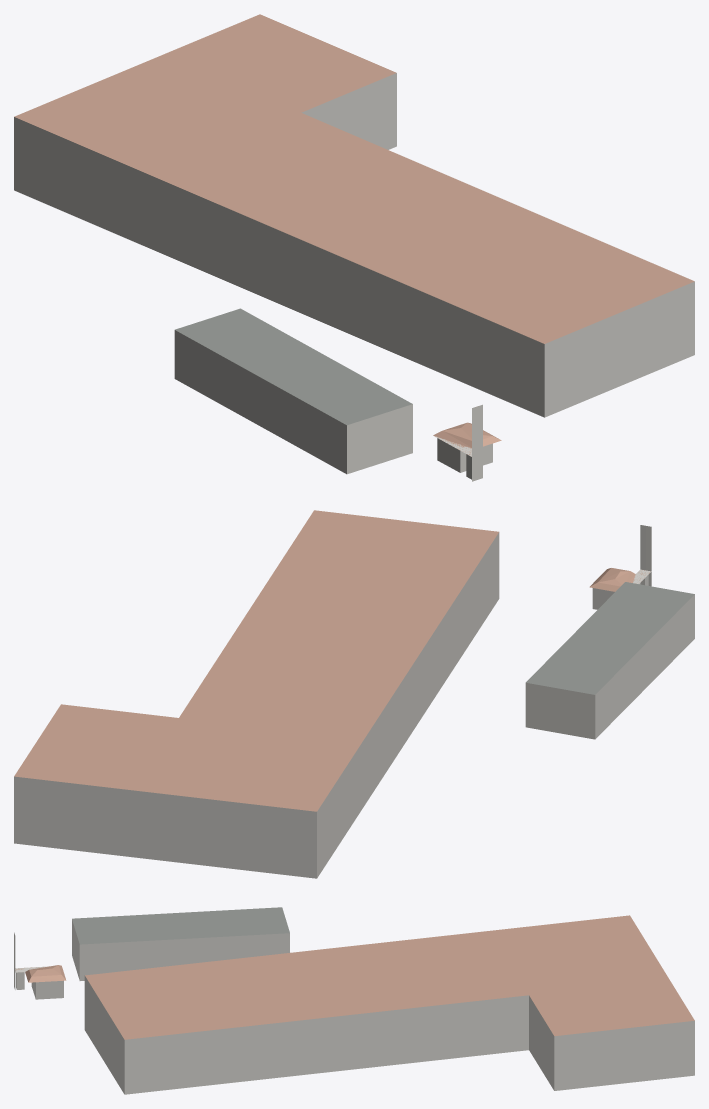
Rendered from gridID_89.dae.
3 renders of one model, top to bottom at view 1: azimuth 30°, elevation 25°; view 2: azimuth 150°, elevation 25°; view 3: azimuth 270°, elevation 25°, orthographic. The views are drawn at different scales.
Parts seen in each view (by area): view 1: model_gridID_89_w116941140, model_gridID_89_w116941140_001, model_gridID_89_w116941140_002; view 2: model_gridID_89_w116941140, model_gridID_89_w116941140_001, model_gridID_89_w116941140_002; view 3: model_gridID_89_w116941140, model_gridID_89_w116941140_001, model_gridID_89_w116941140_002.
Boxes of the visible parts, x1=… form: model_gridID_89_w116941140: x1=14, y1=14, x2=694, y2=417; model_gridID_89_w116941140_001: x1=174, y1=308, x2=412, y2=474; model_gridID_89_w116941140_002: x1=433, y1=404, x2=501, y2=481; model_gridID_89_w116941140: x1=14, y1=510, x2=499, y2=878; model_gridID_89_w116941140_001: x1=525, y1=582, x2=694, y2=739; model_gridID_89_w116941140_002: x1=589, y1=525, x2=651, y2=609; model_gridID_89_w116941140: x1=84, y1=915, x2=694, y2=1094; model_gridID_89_w116941140_001: x1=72, y1=907, x2=289, y2=980; model_gridID_89_w116941140_002: x1=14, y1=932, x2=66, y2=999.
Bounding box in the file's own units: 44.22 × 84.34 × 7.5.
